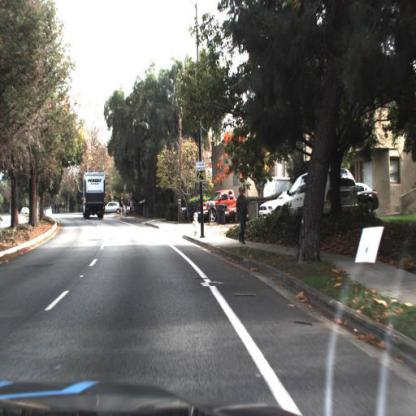car: (282, 169, 360, 213), (329, 182, 380, 218), (196, 191, 238, 225), (101, 200, 125, 218)
pedestrian: (235, 187, 248, 250), (120, 197, 125, 219), (130, 199, 135, 217)
truck: (83, 173, 108, 220)
